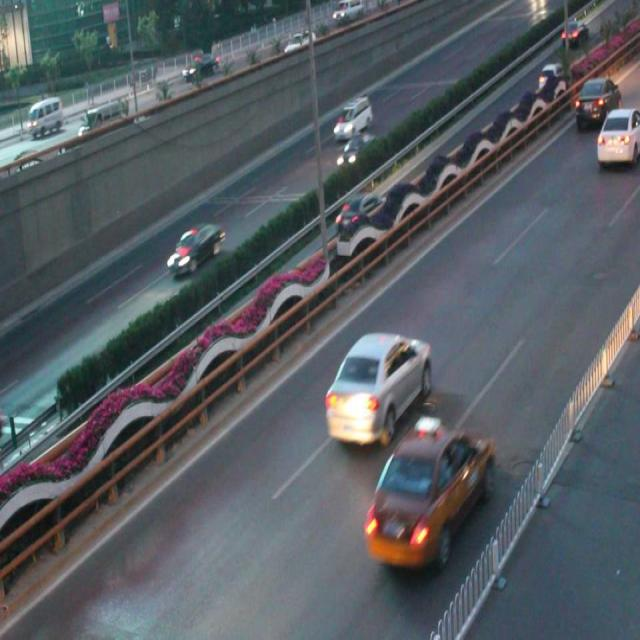car: (363, 420, 493, 571), (325, 335, 429, 445), (168, 224, 224, 275), (594, 110, 640, 162), (333, 191, 380, 237), (334, 130, 375, 171)
truck: (331, 98, 372, 142)
